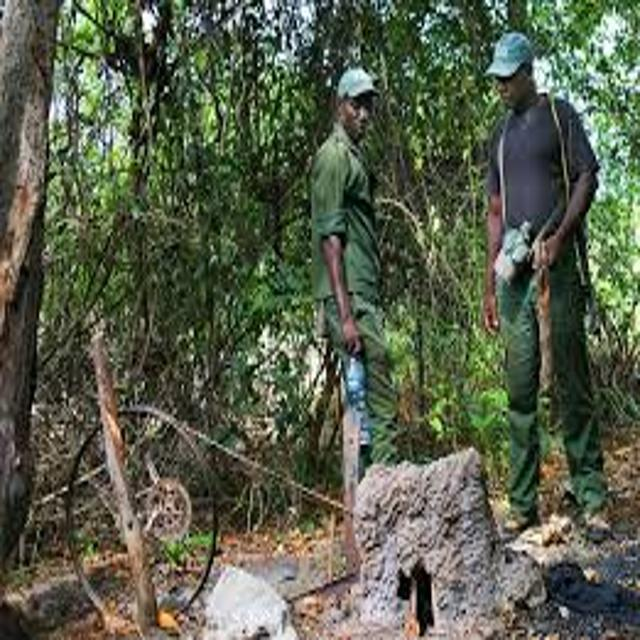poacher: (432, 15, 638, 590), (275, 59, 460, 568)
